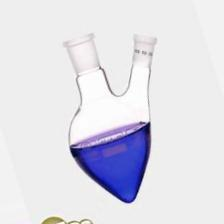Pear shaped flask: (48, 35, 165, 206)
